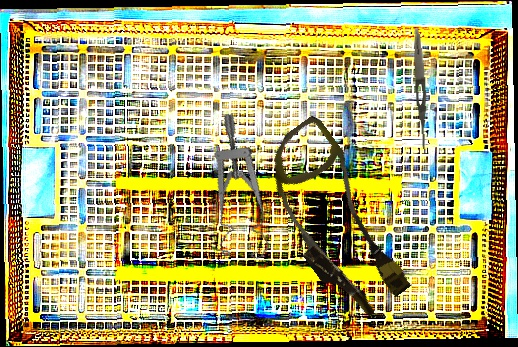Cannula: (239, 113, 431, 327)
Dressing Forceps: (411, 27, 431, 156)
Speculum: (185, 111, 303, 268)
